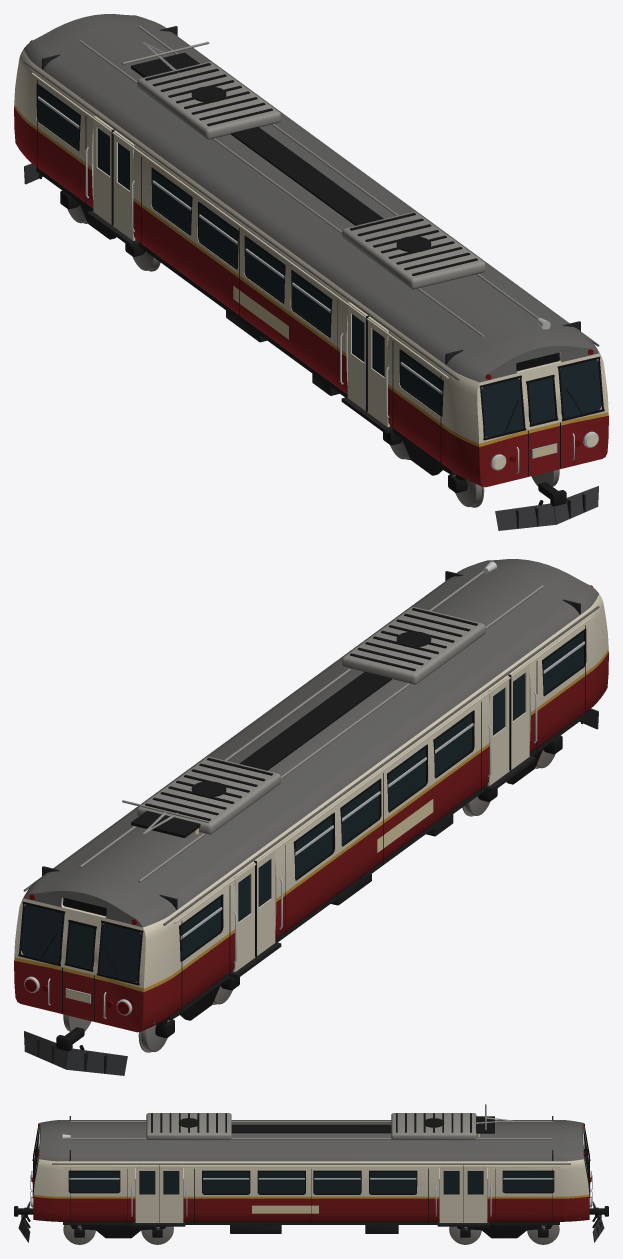
The model's file is train.glb.
The picture shows the model from 3 angles, top to bottom: view 1: azimuth 30°, elevation 25°; view 2: azimuth 150°, elevation 25°; view 3: azimuth 270°, elevation 25°; orthographic projection. The views are drawn at different scales.
Parts seen in each view (by area): view 1: MomijiCar; view 2: MomijiCar; view 3: MomijiCar.
Boxes of the visible parts, left/top/right/bottom form: MomijiCar: left=14, top=14, right=608, bottom=530; MomijiCar: left=14, top=559, right=608, bottom=1075; MomijiCar: left=14, top=1104, right=608, bottom=1244.
Size of the model in its own units: 2.81 by 3.49 by 16.04.
